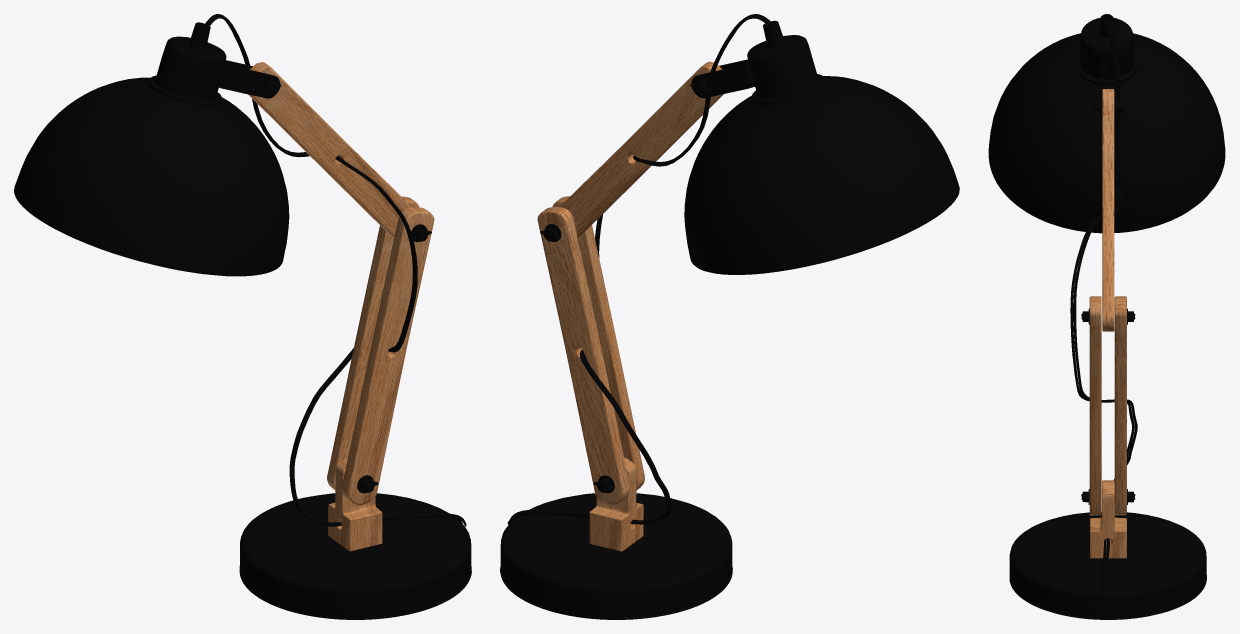
Rendered from UNRS3213.obj.
3 renders of one model, left to right at view 1: azimuth 30°, elevation 25°; view 2: azimuth 150°, elevation 25°; view 3: azimuth 270°, elevation 25°, orthographic. The views are drawn at different scales.
Parts seen in each view (by area): view 1: not_clear_obj_2_v6, not_clear_obj_0_v6, not_clear_obj_3_v6, not_clear_obj_1_v6; view 2: not_clear_obj_2_v6, not_clear_obj_0_v6, not_clear_obj_3_v6, not_clear_obj_1_v6; view 3: not_clear_obj_2_v6, not_clear_obj_0_v6, not_clear_obj_3_v6, not_clear_obj_1_v6.
Part boxes in pixels (x1,y1,x2,y2): not_clear_obj_2_v6: [14, 77, 289, 276]; not_clear_obj_0_v6: [148, 14, 471, 619]; not_clear_obj_3_v6: [248, 62, 434, 551]; not_clear_obj_1_v6: [260, 77, 431, 493]; not_clear_obj_2_v6: [684, 76, 959, 274]; not_clear_obj_0_v6: [500, 14, 825, 619]; not_clear_obj_3_v6: [537, 61, 723, 551]; not_clear_obj_1_v6: [540, 77, 711, 493]; not_clear_obj_2_v6: [988, 33, 1225, 233]; not_clear_obj_0_v6: [1009, 14, 1206, 619]; not_clear_obj_3_v6: [1089, 89, 1126, 558]; not_clear_obj_1_v6: [1081, 98, 1135, 504].
Size of what is drawn, in the model's own units: 37.9 by 49.39 by 21.15.
